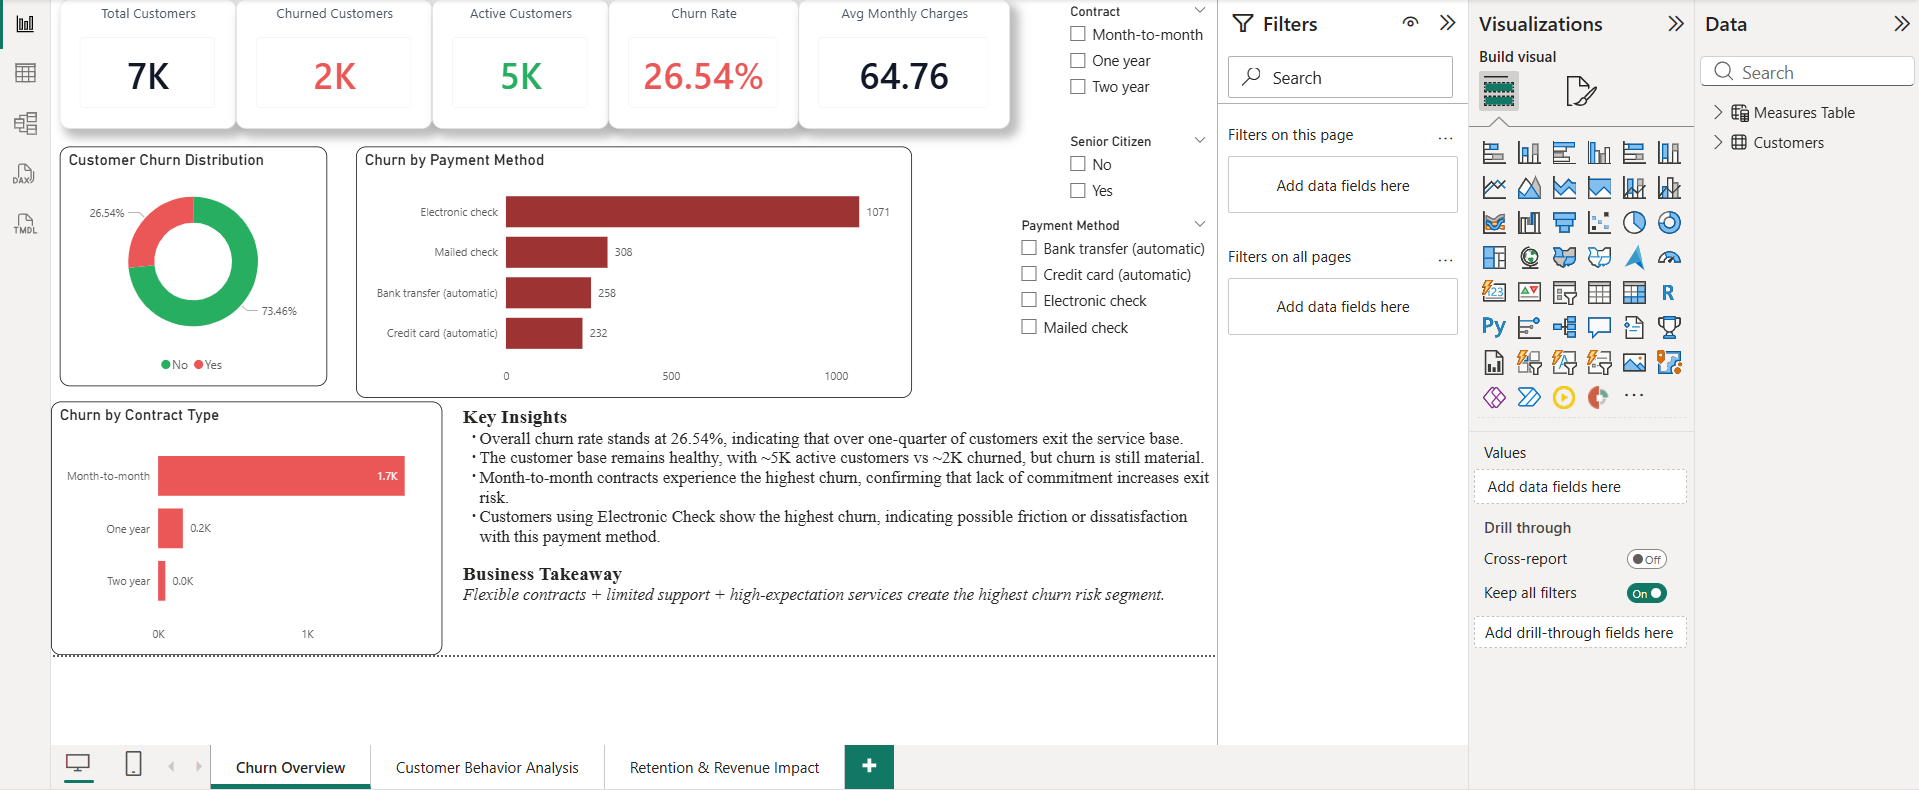

The dashboard page shown, as its layout file describes it:
{"tool":"powerbi","page":{"name":"Churn Overview","canvas":[1280,720],"ordinal":0},"visuals":[{"type":"cardVisual","title":"Total Customers","fields":{"Data":["Measures Table.Total Customers"]},"box":[9.6,0,193.5,142.7],"z":0},{"type":"cardVisual","title":"Churned Customers","fields":{"Data":["Measures Table.Churned Customers"]},"box":[203.1,0,215.4,142.7],"z":1000},{"type":"cardVisual","title":"Active Customers","fields":{"Data":["Measures Table.Active Customers"]},"box":[418.5,0,193.5,142.7],"z":2000},{"type":"cardVisual","title":"Churn Rate","fields":{"Data":["Measures Table.Churn Rate %"]},"box":[612,0,208.6,142.7],"z":3000},{"type":"cardVisual","title":"Avg Monthly Charges","fields":{"Data":["Measures Table.Avg Monthly Charges"]},"box":[820.6,0,231.9,142.7],"z":4000},{"type":"donutChart","title":"Customer Churn Distribution","fields":{"Category":["Customers.Churn Label"],"Y":["Measures Table.Total Customers"]},"box":[9.6,161.9,293.7,263.5],"z":5000},{"type":"clusteredBarChart","title":"Churn by Contract Type","fields":{"Category":["Customers.Contract"],"Y":["Measures Table.Churned Customers"]},"box":[0,441.9,429.5,278.6],"z":6000},{"type":"clusteredBarChart","title":"Churn by Payment Method","fields":{"Category":["Customers.Payment Method"],"Y":["Measures Table.Churned Customers"]},"box":[334.8,161.9,610.6,275.8],"z":7000},{"type":"textbox","box":[447.3,441.9,832.9,278.6],"z":8000},{"type":"slicer","fields":{"Values":["Customers.Contract"]},"box":[1106,0,174.3,124.9],"z":9000},{"type":"slicer","fields":{"Values":["Customers.Senior Citizen"]},"box":[1106,142.7,174.3,91.9],"z":10000},{"type":"slicer","fields":{"Values":["Customers.Payment Method"]},"box":[1052.5,234.6,227.8,161.9],"z":11000}]}

Visuals, with their boxes on the page's 1280x720 design canvas (x1, y1, x2, y2). These are canvas units, not pixel positions in the 1919x790 screenshot, which may show the page scaled, cropped or inside an application window:
"Total Customers" cardVisual: l=10, t=0, r=203, b=143
"Churned Customers" cardVisual: l=203, t=0, r=418, b=143
"Active Customers" cardVisual: l=418, t=0, r=612, b=143
"Churn Rate" cardVisual: l=612, t=0, r=821, b=143
"Avg Monthly Charges" cardVisual: l=821, t=0, r=1052, b=143
"Customer Churn Distribution" donutChart: l=10, t=162, r=303, b=425
"Churn by Contract Type" clusteredBarChart: l=0, t=442, r=430, b=720
"Churn by Payment Method" clusteredBarChart: l=335, t=162, r=945, b=438
textbox: l=447, t=442, r=1280, b=720
slicer - Customers.Contract: l=1106, t=0, r=1280, b=125
slicer - Customers.Senior Citizen: l=1106, t=143, r=1280, b=235
slicer - Customers.Payment Method: l=1052, t=235, r=1280, b=396
